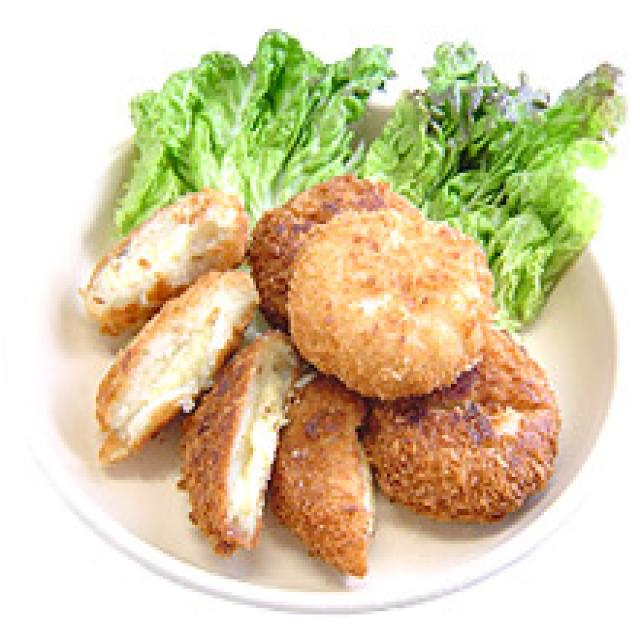炸货点心: (78, 167, 564, 596)
